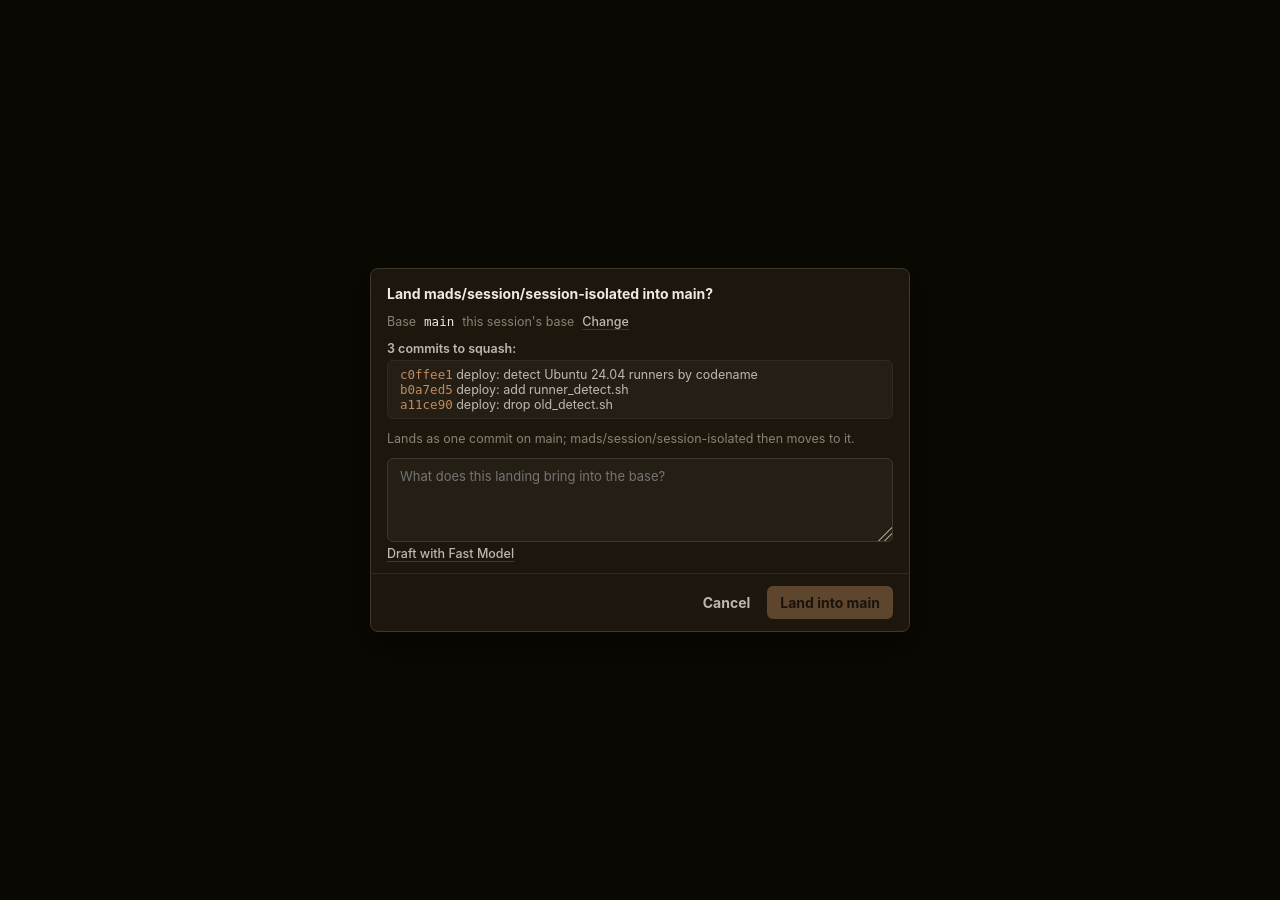
Test: LandDialog (COMMIT-LAND-PUSH D12) › drafts the message with the Fast Model into the field, and never lands on its own
Click the button "Draft with Fast Model". click: (451, 554)
box: [387,546,514,561]
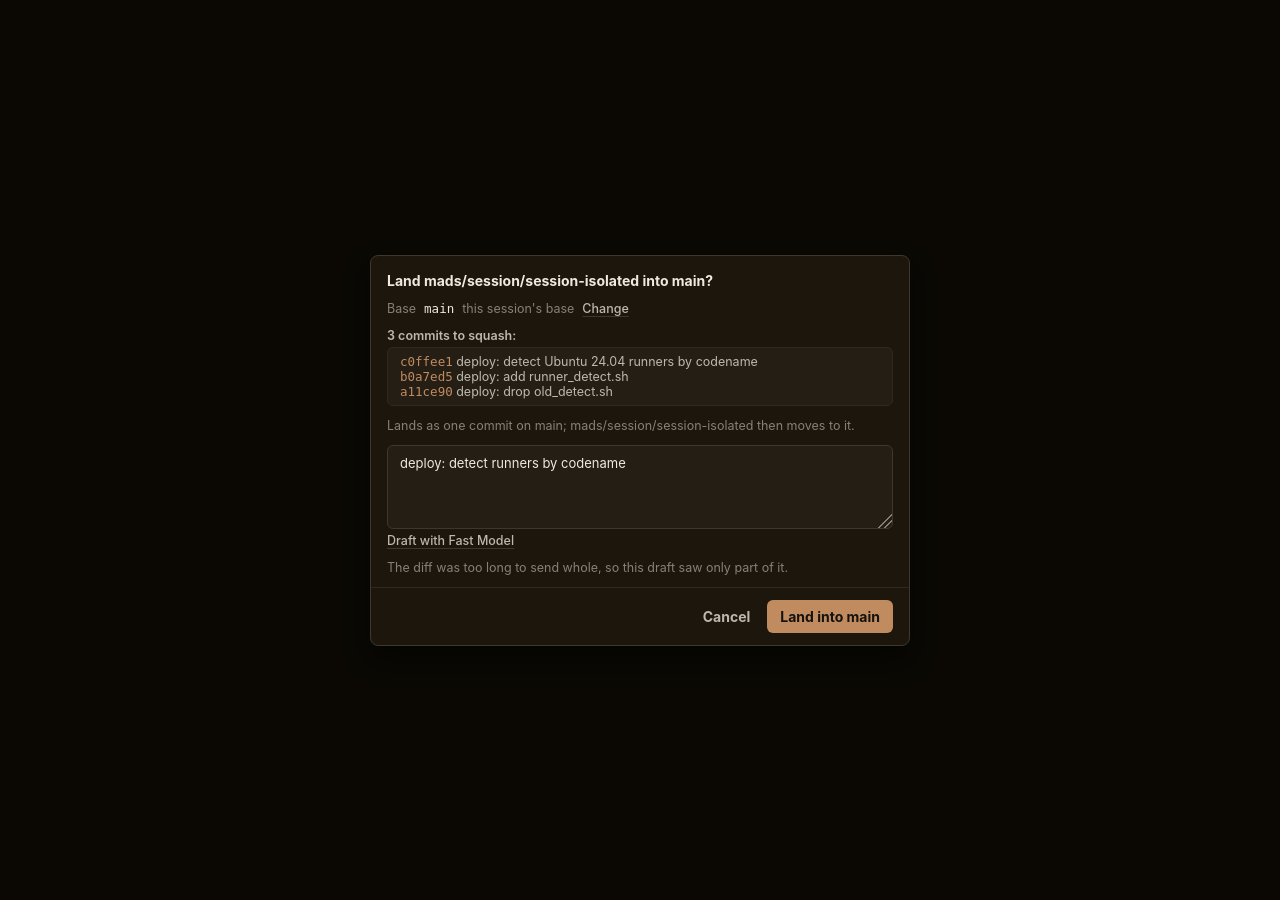
Check: the text box named "Landing message" holds "deploy: detect runners by codename", box [387,444,893,528]
Check: the text "saw only part of it" is shown, box [387,560,788,574]
